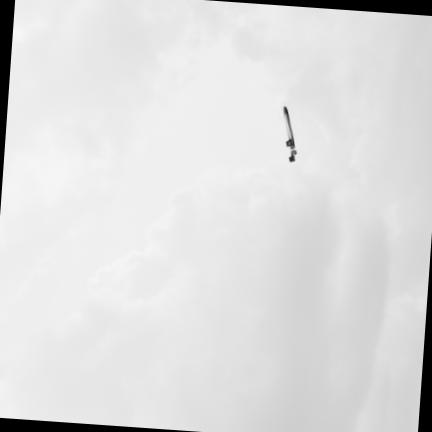Shahed: (284, 106, 295, 160)
